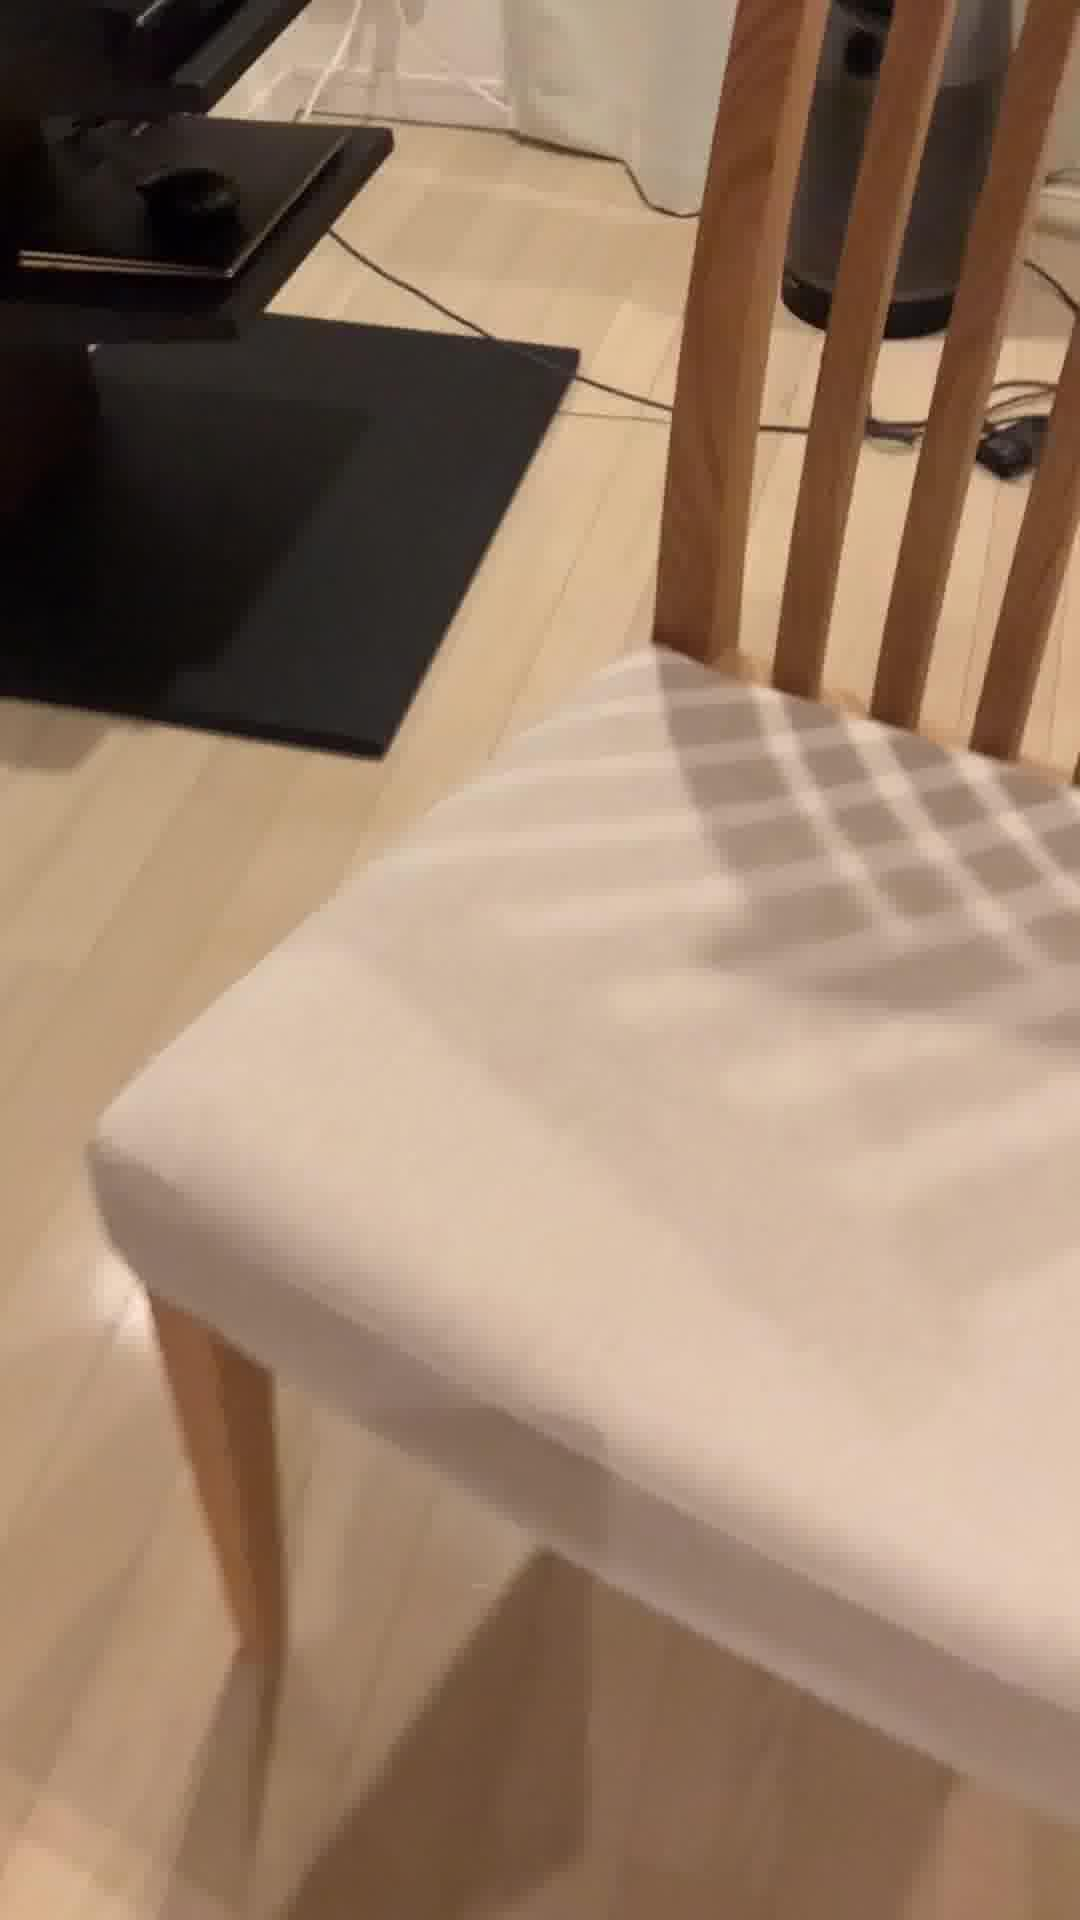takumikan-chair: (86, 0, 1080, 1846)
